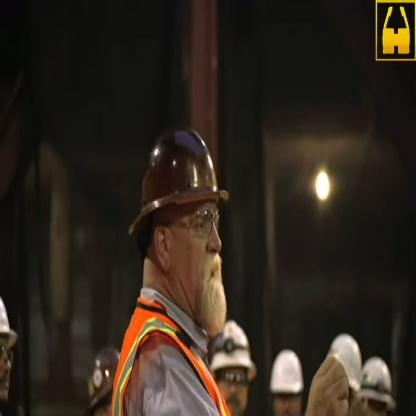helmet: (116, 110, 242, 350)
